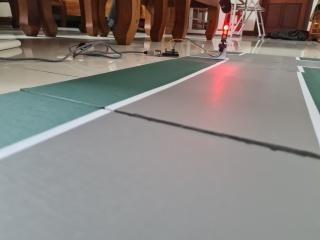red: (216, 22, 231, 52)
